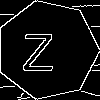Z: (22, 25, 54, 71)
